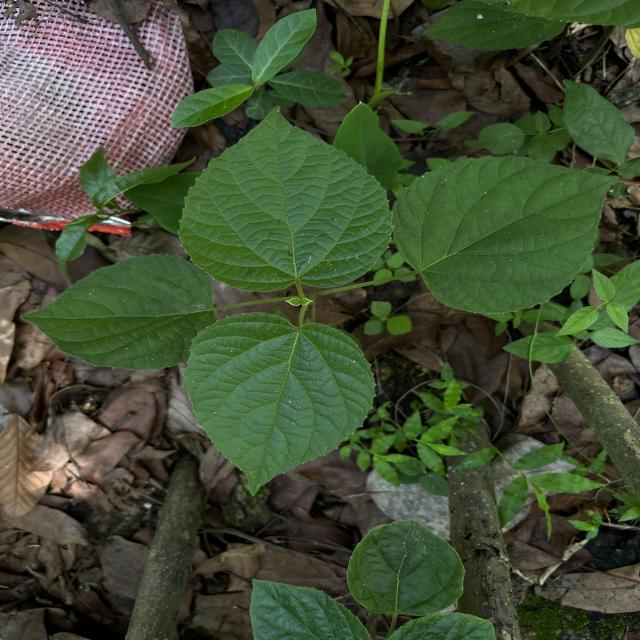Clerodendrum infortunatum: (176, 104, 396, 294), (388, 154, 620, 316), (181, 310, 377, 498), (19, 251, 217, 372)
